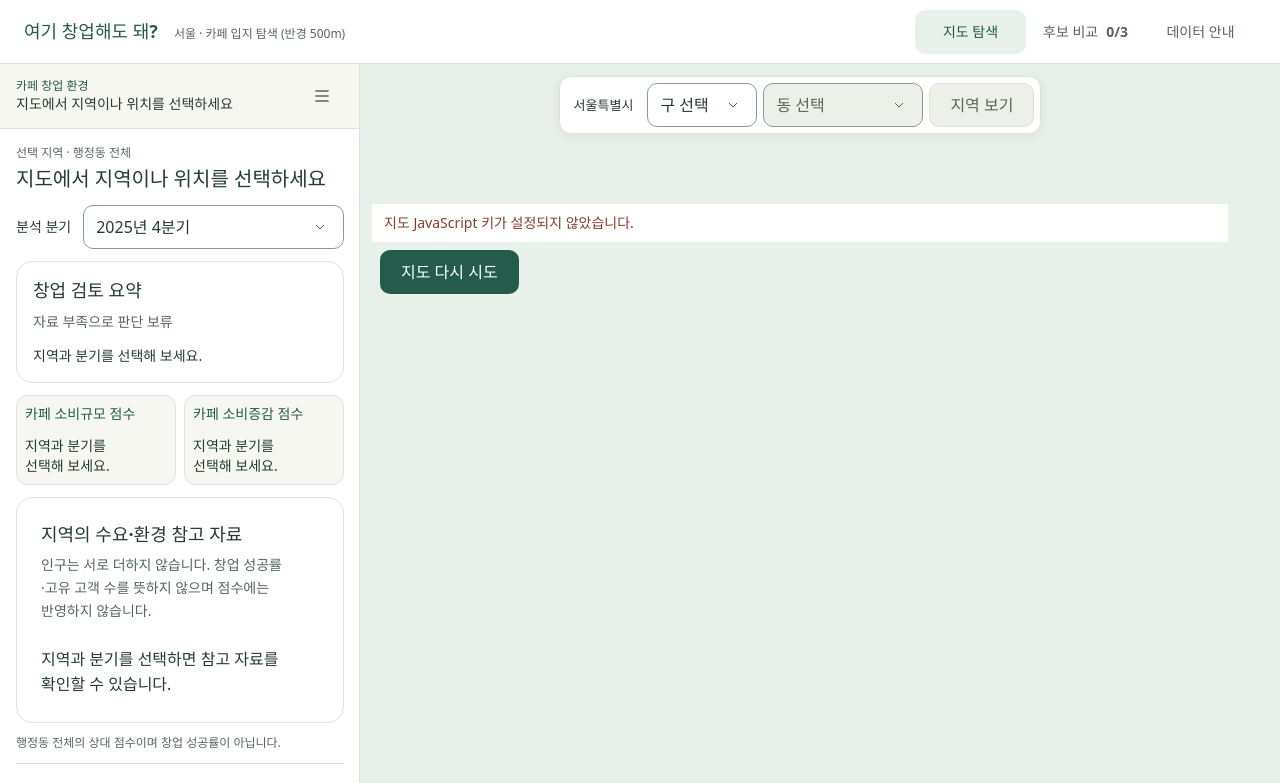
Test case: reports NO_ROW for an official dong even if it is absent from the statistics catalog
Select "종로구" in the dropdown named "자치구" at coordinates (702, 105), box [647,83,757,127]
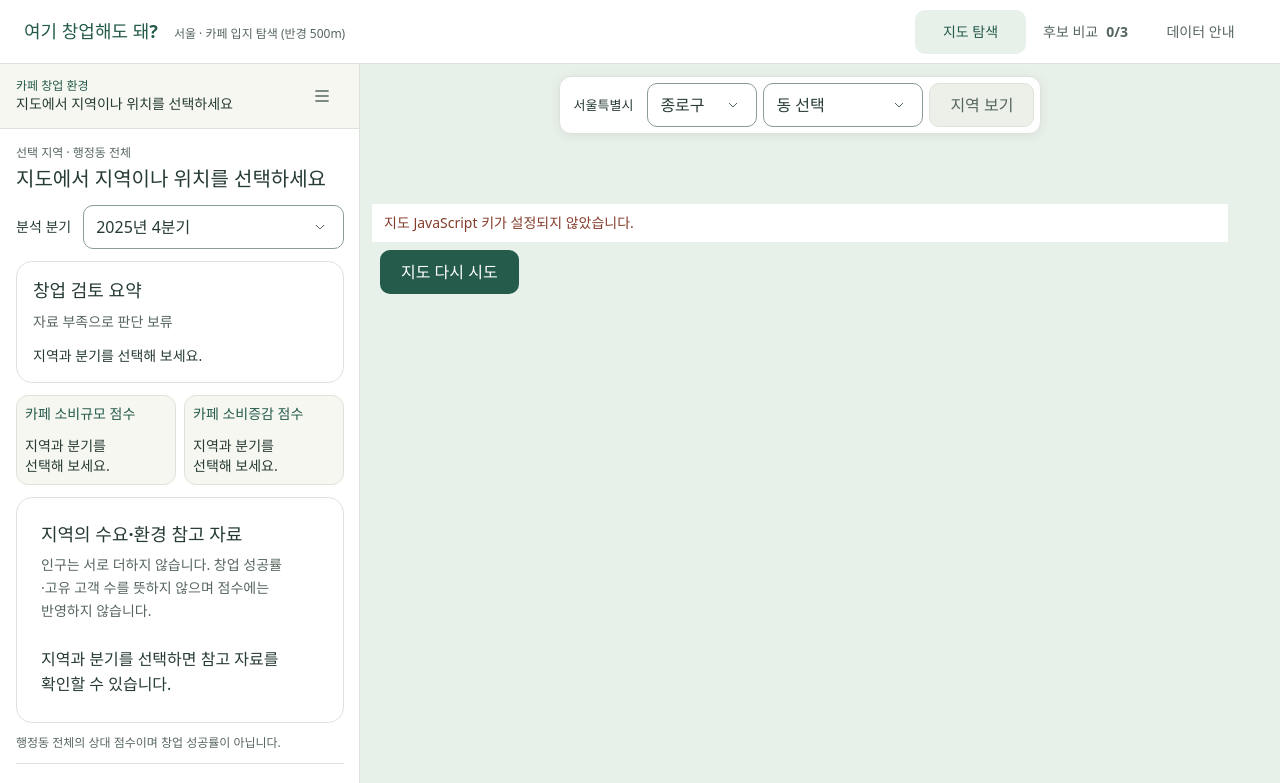
Select "청운효자동" in the dropdown named "행정동" at coordinates (843, 105), box [763,83,923,127]
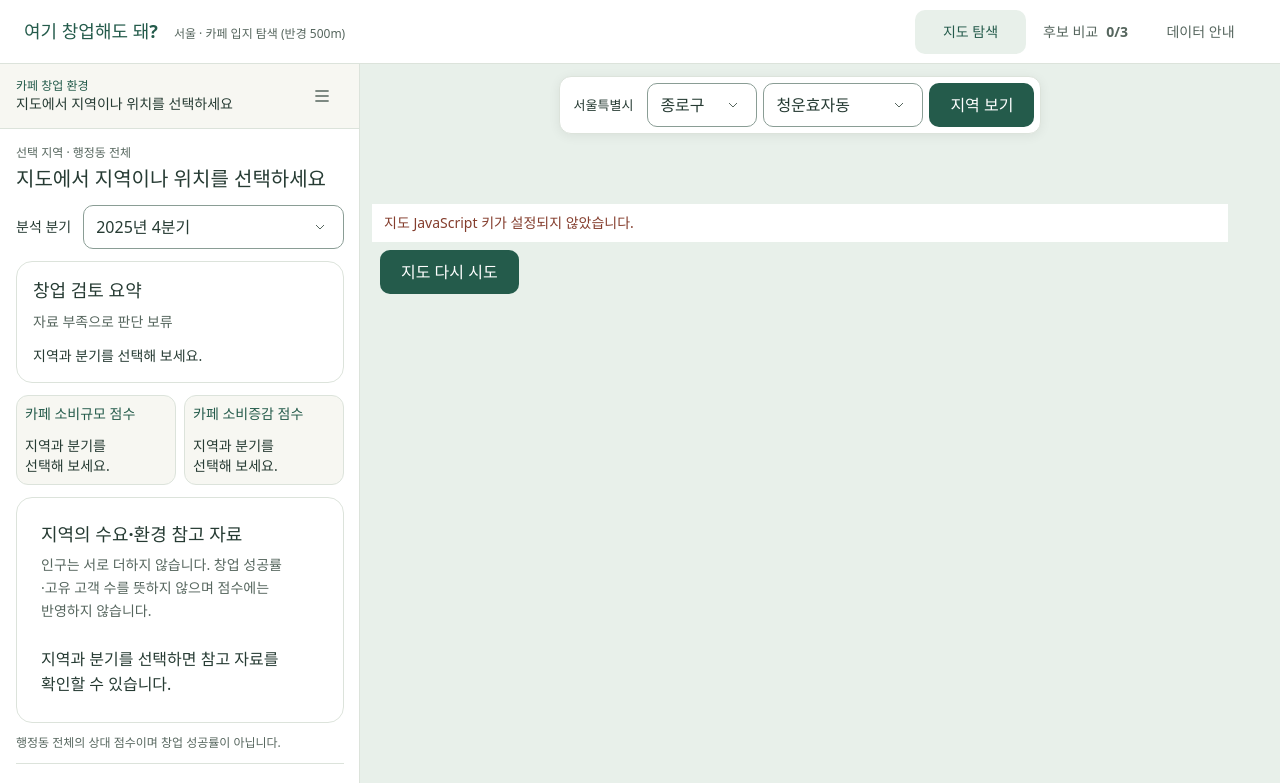
Click the button "지역 보기" at coordinates (982, 105), box [929,83,1034,127]
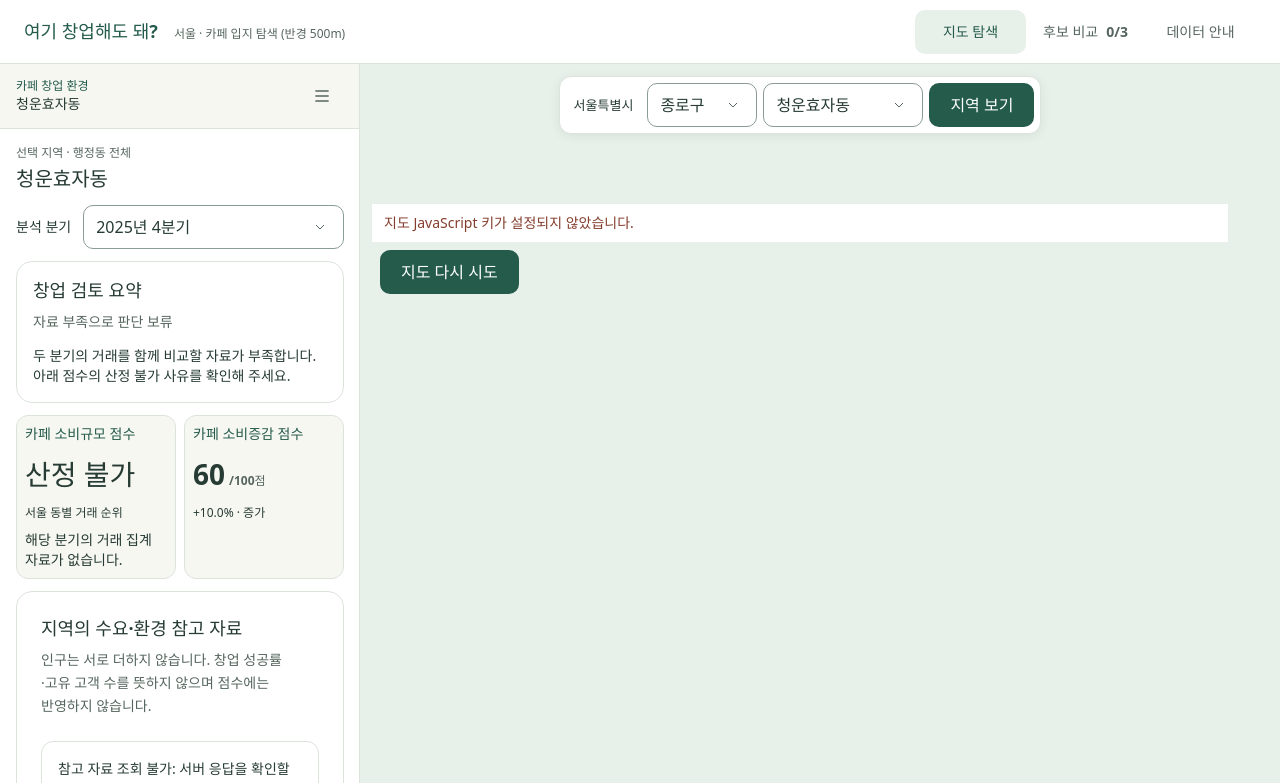
Expected: the text "해당 분기의 거래 집계 자료가 없습니다." is shown, [25,530,167,570]
Expected: the text "산정 불가" is shown, [25,454,135,492]
